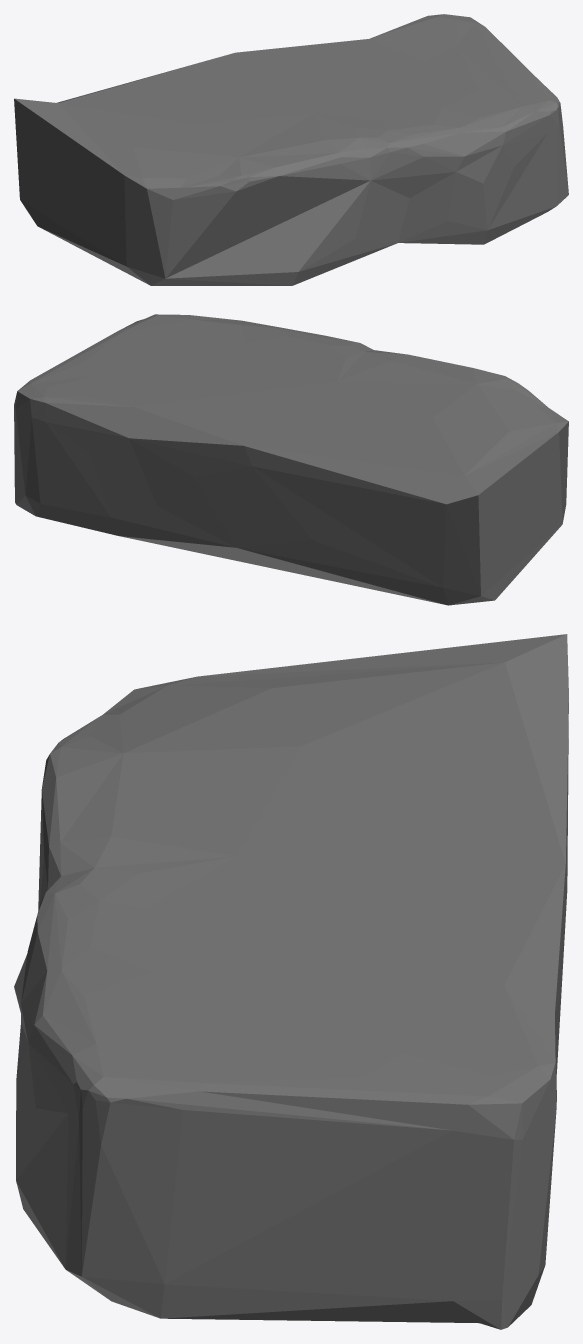
The model's file is Rock_008.fbx.
3 renders of one model, top to bottom at view 1: azimuth 30°, elevation 25°; view 2: azimuth 150°, elevation 25°; view 3: azimuth 270°, elevation 25°, orthographic. The views are drawn at different scales.
Parts seen in each view (by area): view 1: Rock_008; view 2: Rock_008; view 3: Rock_008.
Boxes of the visible parts, x1,y1,x2,y2 form: Rock_008: (14,14,568,285); Rock_008: (14,314,568,605); Rock_008: (14,634,568,1329).
Size of the model in its own units: 856 by 458 by 238.
1 material, 1 textured.
